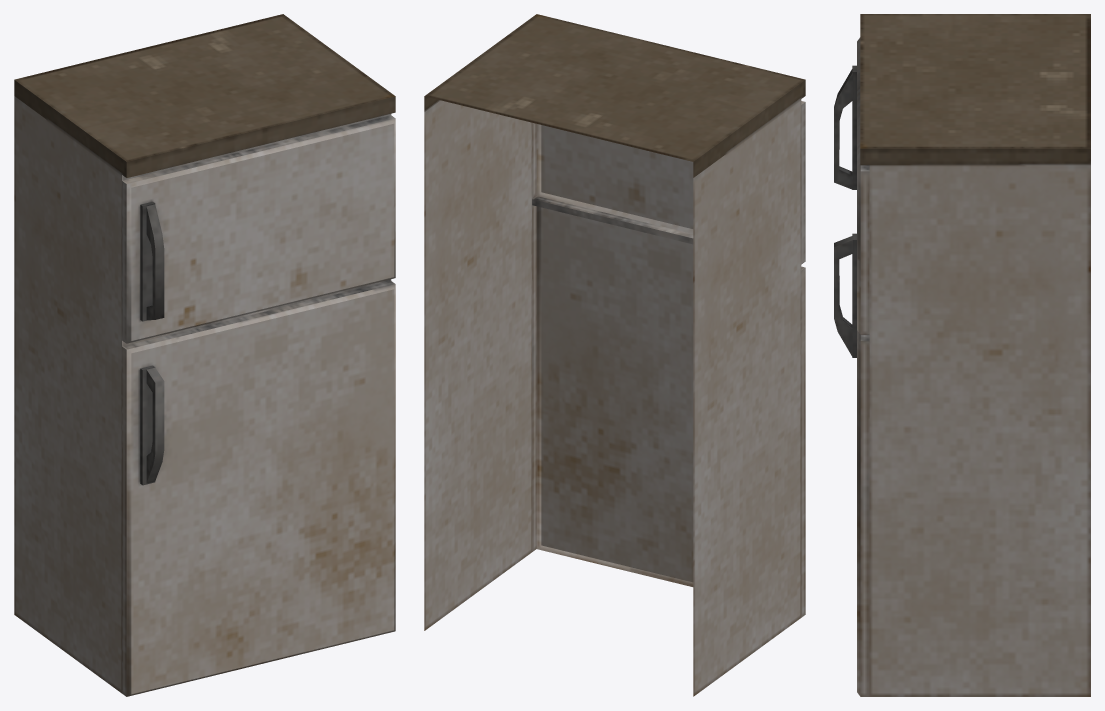
Rendered from fridge.fbx.
The picture shows the model from 3 angles, left to right: view 1: azimuth 30°, elevation 25°; view 2: azimuth 150°, elevation 25°; view 3: azimuth 270°, elevation 25°; orthographic projection. The views are drawn at different scales.
Parts seen in each view (by area): view 1: fridge; view 2: fridge; view 3: fridge.
Part boxes in pixels (x1,y1,x2,y2): fridge: [14, 14, 395, 696]; fridge: [424, 14, 805, 696]; fridge: [834, 14, 1090, 696].
Size of the model in its own units: 89.69 by 170 by 72.38.
Materials: 1 (1 with a texture image).
